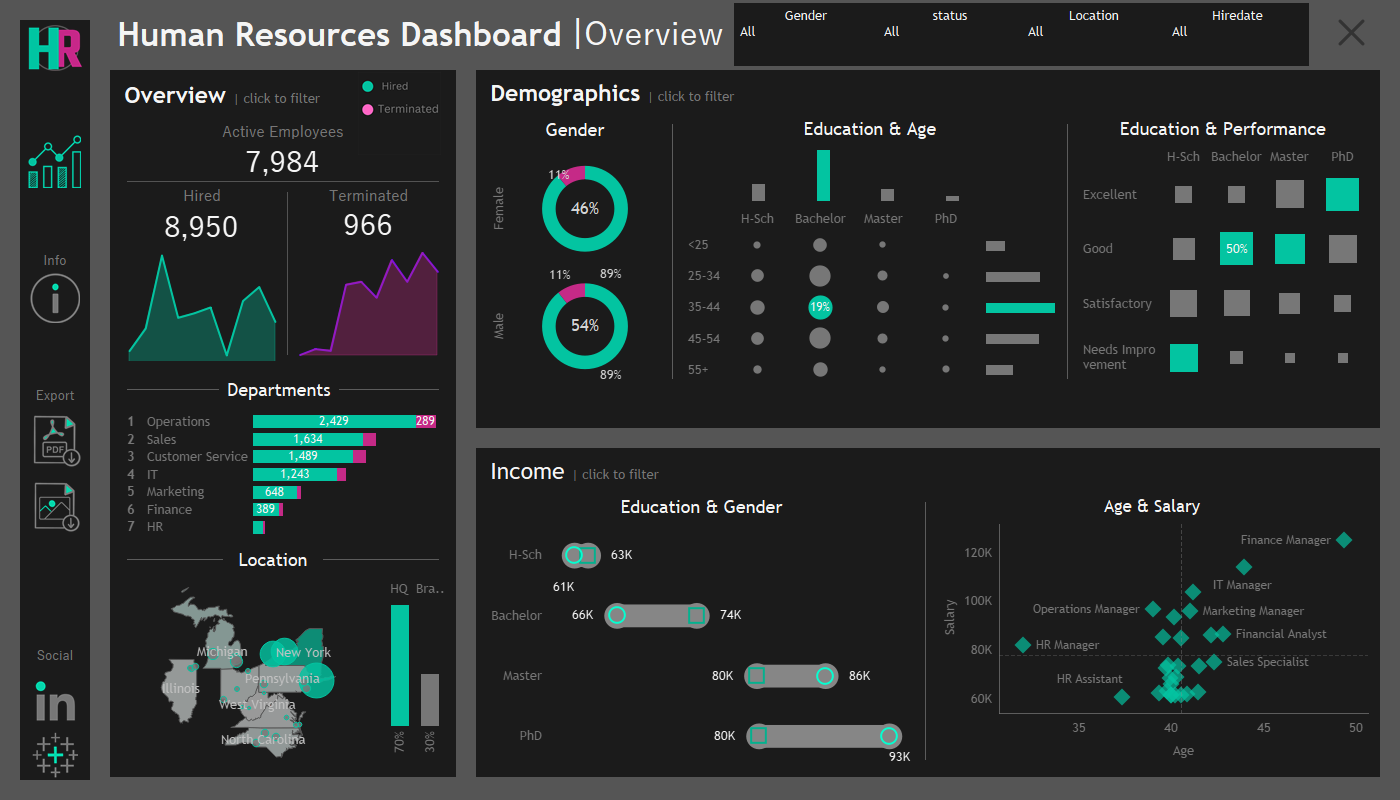

Layout of this report page (visuals, bound fields, positions):
{"tool":"tableau","page":{"name":"HR Summary","canvas":[1400,800],"ordinal":0},"visuals":[{"type":"blank","box":[91,0,1309,200]},{"type":"text","box":[110,0,719,70]},{"type":"blank","box":[829,0,551,70]},{"type":"filter","title":"Gender vs Education level","param":"[federated.119qu6e01gswgc17jo3jg1f27d7n].[none:Gender:nk]","box":[734,3,144,63]},{"type":"filter","title":"Gender vs Education level","param":"[federated.119qu6e01gswgc17jo3jg1f27d7n].[none:Calculation_647111016879099904:nk","box":[878,3,144,63]},{"type":"filter","title":"Gender vs Education level","param":"[federated.119qu6e01gswgc17jo3jg1f27d7n].[none:Calculation_1041457458100125702:n","box":[1022,3,144,63]},{"type":"filter","title":"Gender vs Education level","param":"[federated.119qu6e01gswgc17jo3jg1f27d7n].[yr:Hiredate:ok]","box":[1166,3,143,63]},{"type":"text","box":[1316,8,71,23]},{"type":"image","param":"Image/Logo.png","box":[20,20,70,55]},{"type":"dashboard-object","box":[1326,22,51,39]},{"type":"image","param":"Image/Your paragraph text (5).png","box":[357,71,149,84]},{"type":"blank","box":[20,75,70,60]},{"type":"text","box":[117,77,332,41]},{"type":"text","box":[483,77,890,32]},{"type":"text","box":[483,114,184,32]},{"type":"blank","box":[672,114,1,275]},{"type":"text","box":[678,114,384,34]},{"type":"blank","box":[1067,114,1,275]},{"type":"text","box":[1073,114,300,34]},{"type":"text","box":[117,118,332,38]},{"type":"dashboard-object","box":[20,135,70,53]},{"type":"worksheet","title":"Gender","mark":"Pie","rows":["Gender"],"cols":["Calculation_1041457458106044426","Calculation_1041457458106044426"],"box":[483,146,184,243]},{"type":"worksheet","title":"Education Levels","mark":"Bar","rows":["Calculation_1041457458091986944"],"cols":["Education Level"],"box":[678,148,384,62]},{"type":"worksheet","title":"Education vs Performance","mark":"Square","rows":["Performance Rating"],"cols":["Education Level"],"box":[1073,148,300,241]},{"type":"worksheet","title":"BAN Active","mark":"Text","box":[117,156,332,35]},{"type":"blank","box":[20,188,70,60]},{"type":"blank","box":[117,191,332,1]},{"type":"text","box":[117,192,170,29]},{"type":"blank","box":[287,192,1,183]},{"type":"text","box":[288,192,161,32]},{"type":"text","box":[91,200,1309,273]},{"type":"worksheet","title":"Age vs Education","mark":"Circle","rows":["Calculation_1041457458110574604"],"cols":["Education Level"],"box":[678,210,304,179]},{"type":"worksheet","title":"Age Groups","mark":"Bar","rows":["Calculation_1041457458110574604"],"cols":["Calculation_1041457458091986944"],"box":[982,210,80,179]},{"type":"worksheet","title":"BAN Hired","mark":"Text","box":[117,221,170,34]},{"type":"worksheet","title":"BAN Terminated","mark":"Text","box":[288,224,161,32]},{"type":"text","box":[20,248,70,29]},{"type":"worksheet","title":"Hired by Year","mark":"Line","rows":["Calculation_1041457458091986944","Calculation_1041457458091986944"],"cols":["Hiredate"],"box":[117,255,170,120]},{"type":"worksheet","title":"Terminated by Year","mark":"Line","rows":["Calculation_1041457458092625921","Calculation_1041457458092625921"],"cols":["Termdate"],"box":[288,256,161,119]},{"type":"dashboard-object","box":[20,277,70,50]},{"type":"blank","box":[20,327,70,60]},{"type":"blank","box":[127,380,92,39]},{"type":"text","box":[219,380,120,39]},{"type":"blank","box":[339,380,100,39]},{"type":"text","box":[20,387,70,29]},{"type":"blank","box":[483,389,890,32]},{"type":"dashboard-object","box":[20,416,70,65]},{"type":"worksheet","title":"Departments","mark":"Bar","rows":["Calculation_1041457458099441668","Department"],"cols":["Calculation_1041457458091986944"],"box":[117,419,332,131]},{"type":"text","box":[483,455,890,32]},{"type":"dashboard-object","box":[20,481,70,59]},{"type":"text","box":[483,492,432.5,34]},{"type":"blank","box":[920.5,492,1,278]},{"type":"text","box":[926.5,492,446.5,32]},{"type":"worksheet","title":"Age vs Salary","mark":"Shape","rows":["Salary"],"cols":["Calculation_1041457458109124619"],"box":[926.5,524,446.5,246]},{"type":"worksheet","title":"Gender vs Education level","mark":"Square","rows":["Education Level"],"cols":["Salary","Salary"],"box":[483,526,432.5,244]},{"type":"blank","box":[20,540,70,100]},{"type":"blank","box":[127,555,96,34]},{"type":"text","box":[223,555,100,34]},{"type":"blank","box":[323,555,116,34]},{"type":"worksheet","title":"Map States","mark":"Multipolygon","box":[117,589,263,181]},{"type":"worksheet","title":"Location","mark":"Bar","rows":["Calculation_1041457458091986944"],"cols":["Calculation_1041457458100125702","Calculation1"],"box":[380,589,69,181]},{"type":"text","box":[20,640,70,32]},{"type":"image","param":"Image/contact-linkedin.png","box":[20,672,70,58]},{"type":"image","param":"Image/contact-public.png","box":[20,730,70,50]}]}

Visuals, with their boxes in screenshot pixels (x1, y1, x2, y2), scaled from the page's 1400x800 canvas onto the 1400x800 screenshot:
blank: box(91, 0, 1399, 200)
text: box(110, 0, 829, 70)
blank: box(829, 0, 1380, 70)
"Gender vs Education level" filter: box(734, 3, 878, 66)
"Gender vs Education level" filter: box(878, 3, 1022, 66)
"Gender vs Education level" filter: box(1022, 3, 1166, 66)
"Gender vs Education level" filter: box(1166, 3, 1309, 66)
text: box(1316, 8, 1387, 31)
image: box(20, 20, 90, 75)
dashboard-object: box(1326, 22, 1377, 61)
image: box(357, 71, 506, 155)
blank: box(20, 75, 90, 135)
text: box(117, 77, 449, 118)
text: box(483, 77, 1373, 109)
text: box(483, 114, 667, 146)
blank: box(672, 114, 673, 389)
text: box(678, 114, 1062, 148)
blank: box(1067, 114, 1068, 389)
text: box(1073, 114, 1373, 148)
text: box(117, 118, 449, 156)
dashboard-object: box(20, 135, 90, 188)
"Gender" worksheet (Pie marks): box(483, 146, 667, 389)
"Education Levels" worksheet (Bar marks): box(678, 148, 1062, 210)
"Education vs Performance" worksheet (Square marks): box(1073, 148, 1373, 389)
"BAN Active" worksheet (Text marks): box(117, 156, 449, 191)
blank: box(20, 188, 90, 248)
blank: box(117, 191, 449, 192)
text: box(117, 192, 287, 221)
blank: box(287, 192, 288, 375)
text: box(288, 192, 449, 224)
text: box(91, 200, 1399, 473)
"Age vs Education" worksheet (Circle marks): box(678, 210, 982, 389)
"Age Groups" worksheet (Bar marks): box(982, 210, 1062, 389)
"BAN Hired" worksheet (Text marks): box(117, 221, 287, 255)
"BAN Terminated" worksheet (Text marks): box(288, 224, 449, 256)
text: box(20, 248, 90, 277)
"Hired by Year" worksheet (Line marks): box(117, 255, 287, 375)
"Terminated by Year" worksheet (Line marks): box(288, 256, 449, 375)
dashboard-object: box(20, 277, 90, 327)
blank: box(20, 327, 90, 387)
blank: box(127, 380, 219, 419)
text: box(219, 380, 339, 419)
blank: box(339, 380, 439, 419)
text: box(20, 387, 90, 416)
blank: box(483, 389, 1373, 421)
dashboard-object: box(20, 416, 90, 481)
"Departments" worksheet (Bar marks): box(117, 419, 449, 550)
text: box(483, 455, 1373, 487)
dashboard-object: box(20, 481, 90, 540)
text: box(483, 492, 916, 526)
blank: box(920, 492, 922, 770)
text: box(926, 492, 1373, 524)
"Age vs Salary" worksheet (Shape marks): box(926, 524, 1373, 770)
"Gender vs Education level" worksheet (Square marks): box(483, 526, 916, 770)
blank: box(20, 540, 90, 640)
blank: box(127, 555, 223, 589)
text: box(223, 555, 323, 589)
blank: box(323, 555, 439, 589)
"Map States" worksheet (Multipolygon marks): box(117, 589, 380, 770)
"Location" worksheet (Bar marks): box(380, 589, 449, 770)
text: box(20, 640, 90, 672)
image: box(20, 672, 90, 730)
image: box(20, 730, 90, 780)
